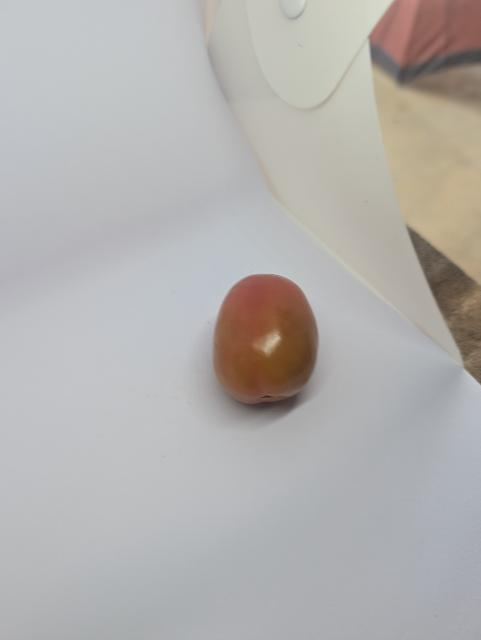turning: (211, 267, 330, 410)
